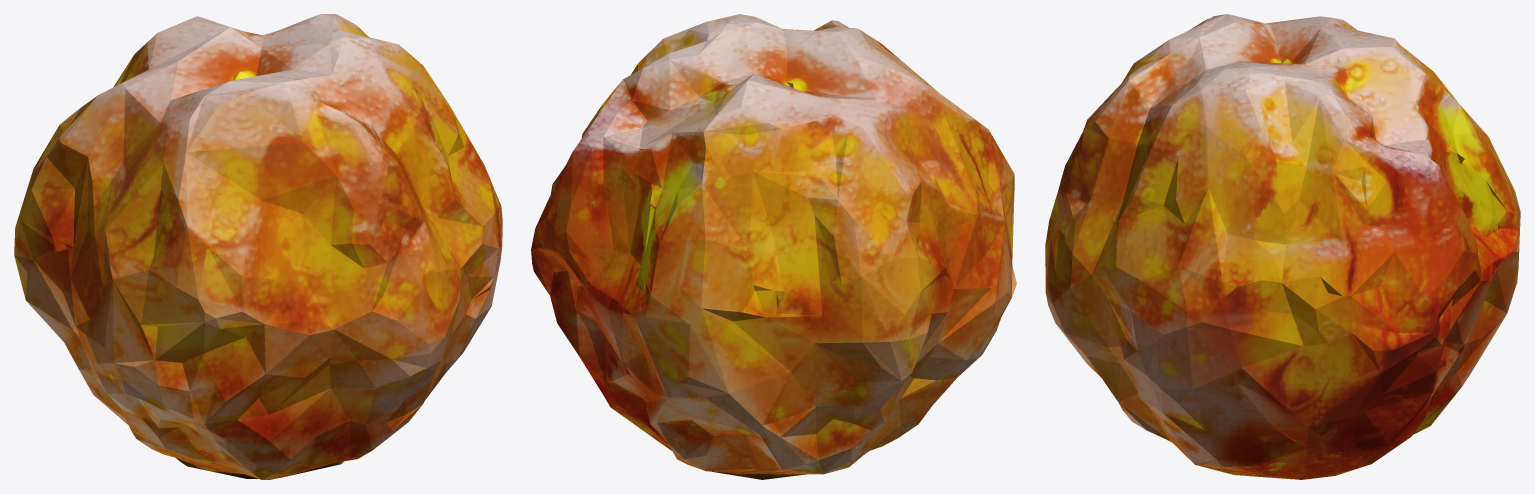
Rendered from organic_substance_optimized.glb.
3 renders of one model, left to right at view 1: azimuth 30°, elevation 25°; view 2: azimuth 150°, elevation 25°; view 3: azimuth 270°, elevation 25°, orthographic. The views are drawn at different scales.
Bounding box in the file's own units: 0.963 × 0.9242 × 0.9943.
1 material, 1 textured.
